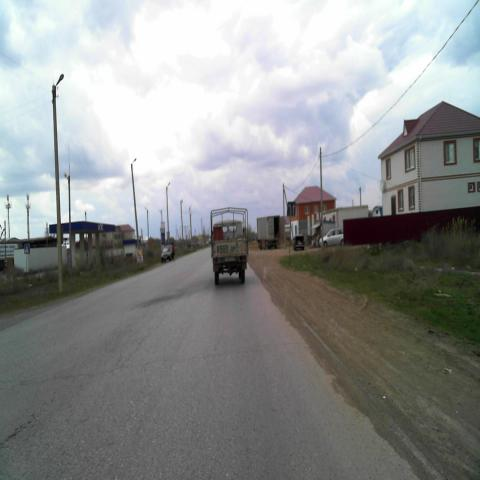5_15_2_2: (286, 201, 296, 216)
